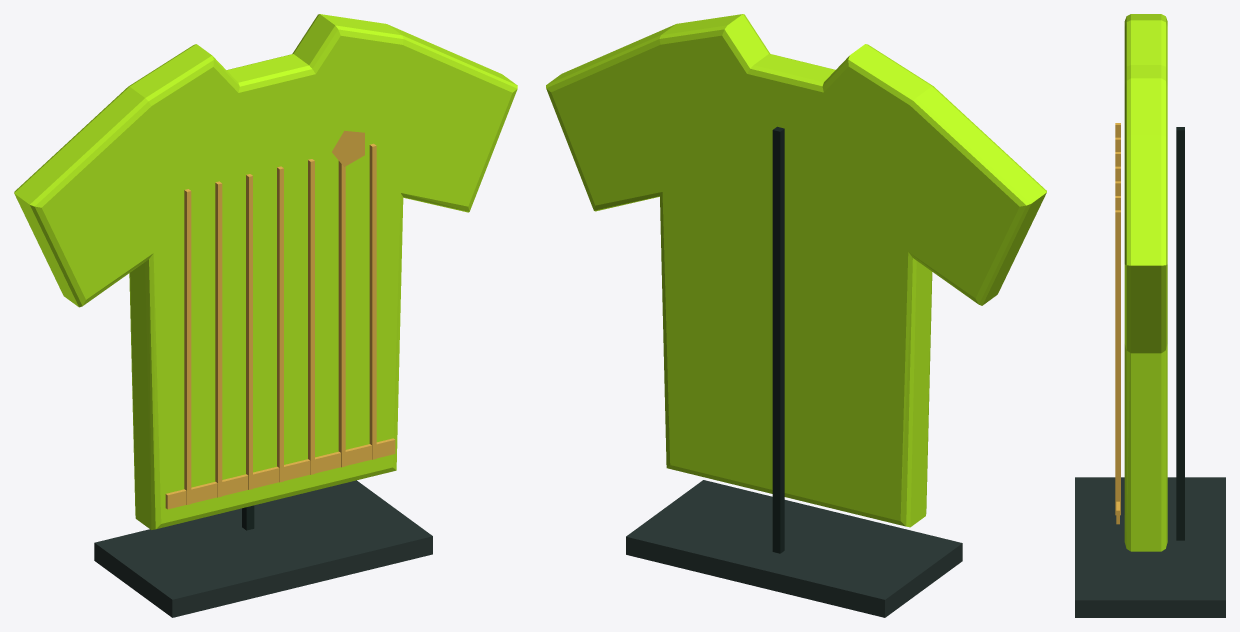
File: kit-pinstripe.glb
3 renders of one model, left to right at view 1: azimuth 30°, elevation 25°; view 2: azimuth 150°, elevation 25°; view 3: azimuth 270°, elevation 25°, orthographic. The views are drawn at different scales.
Parts seen in each view (by area): view 1: kit; view 2: kit; view 3: kit.
Boxes of the visible parts, x1,y1,x2,y2 form: kit: [14, 14, 517, 617]; kit: [546, 14, 1046, 617]; kit: [1075, 14, 1225, 617].
Size of the model in its own units: 2.53 by 2.6 by 0.7.
